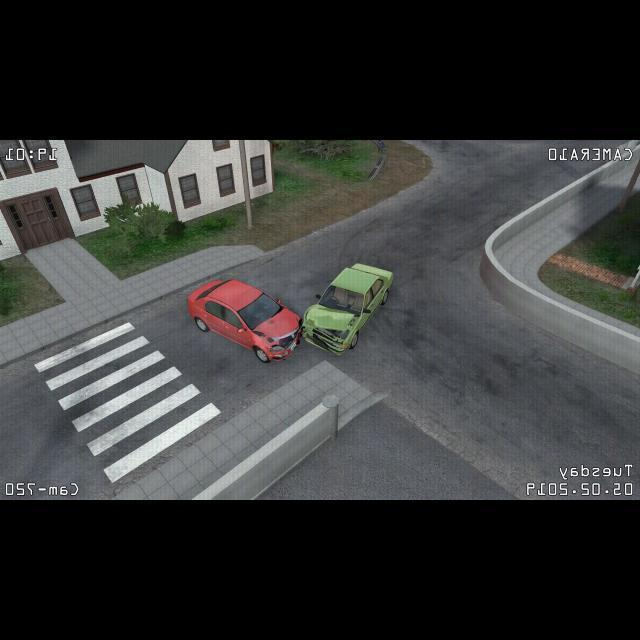accident: (186, 260, 397, 366)
